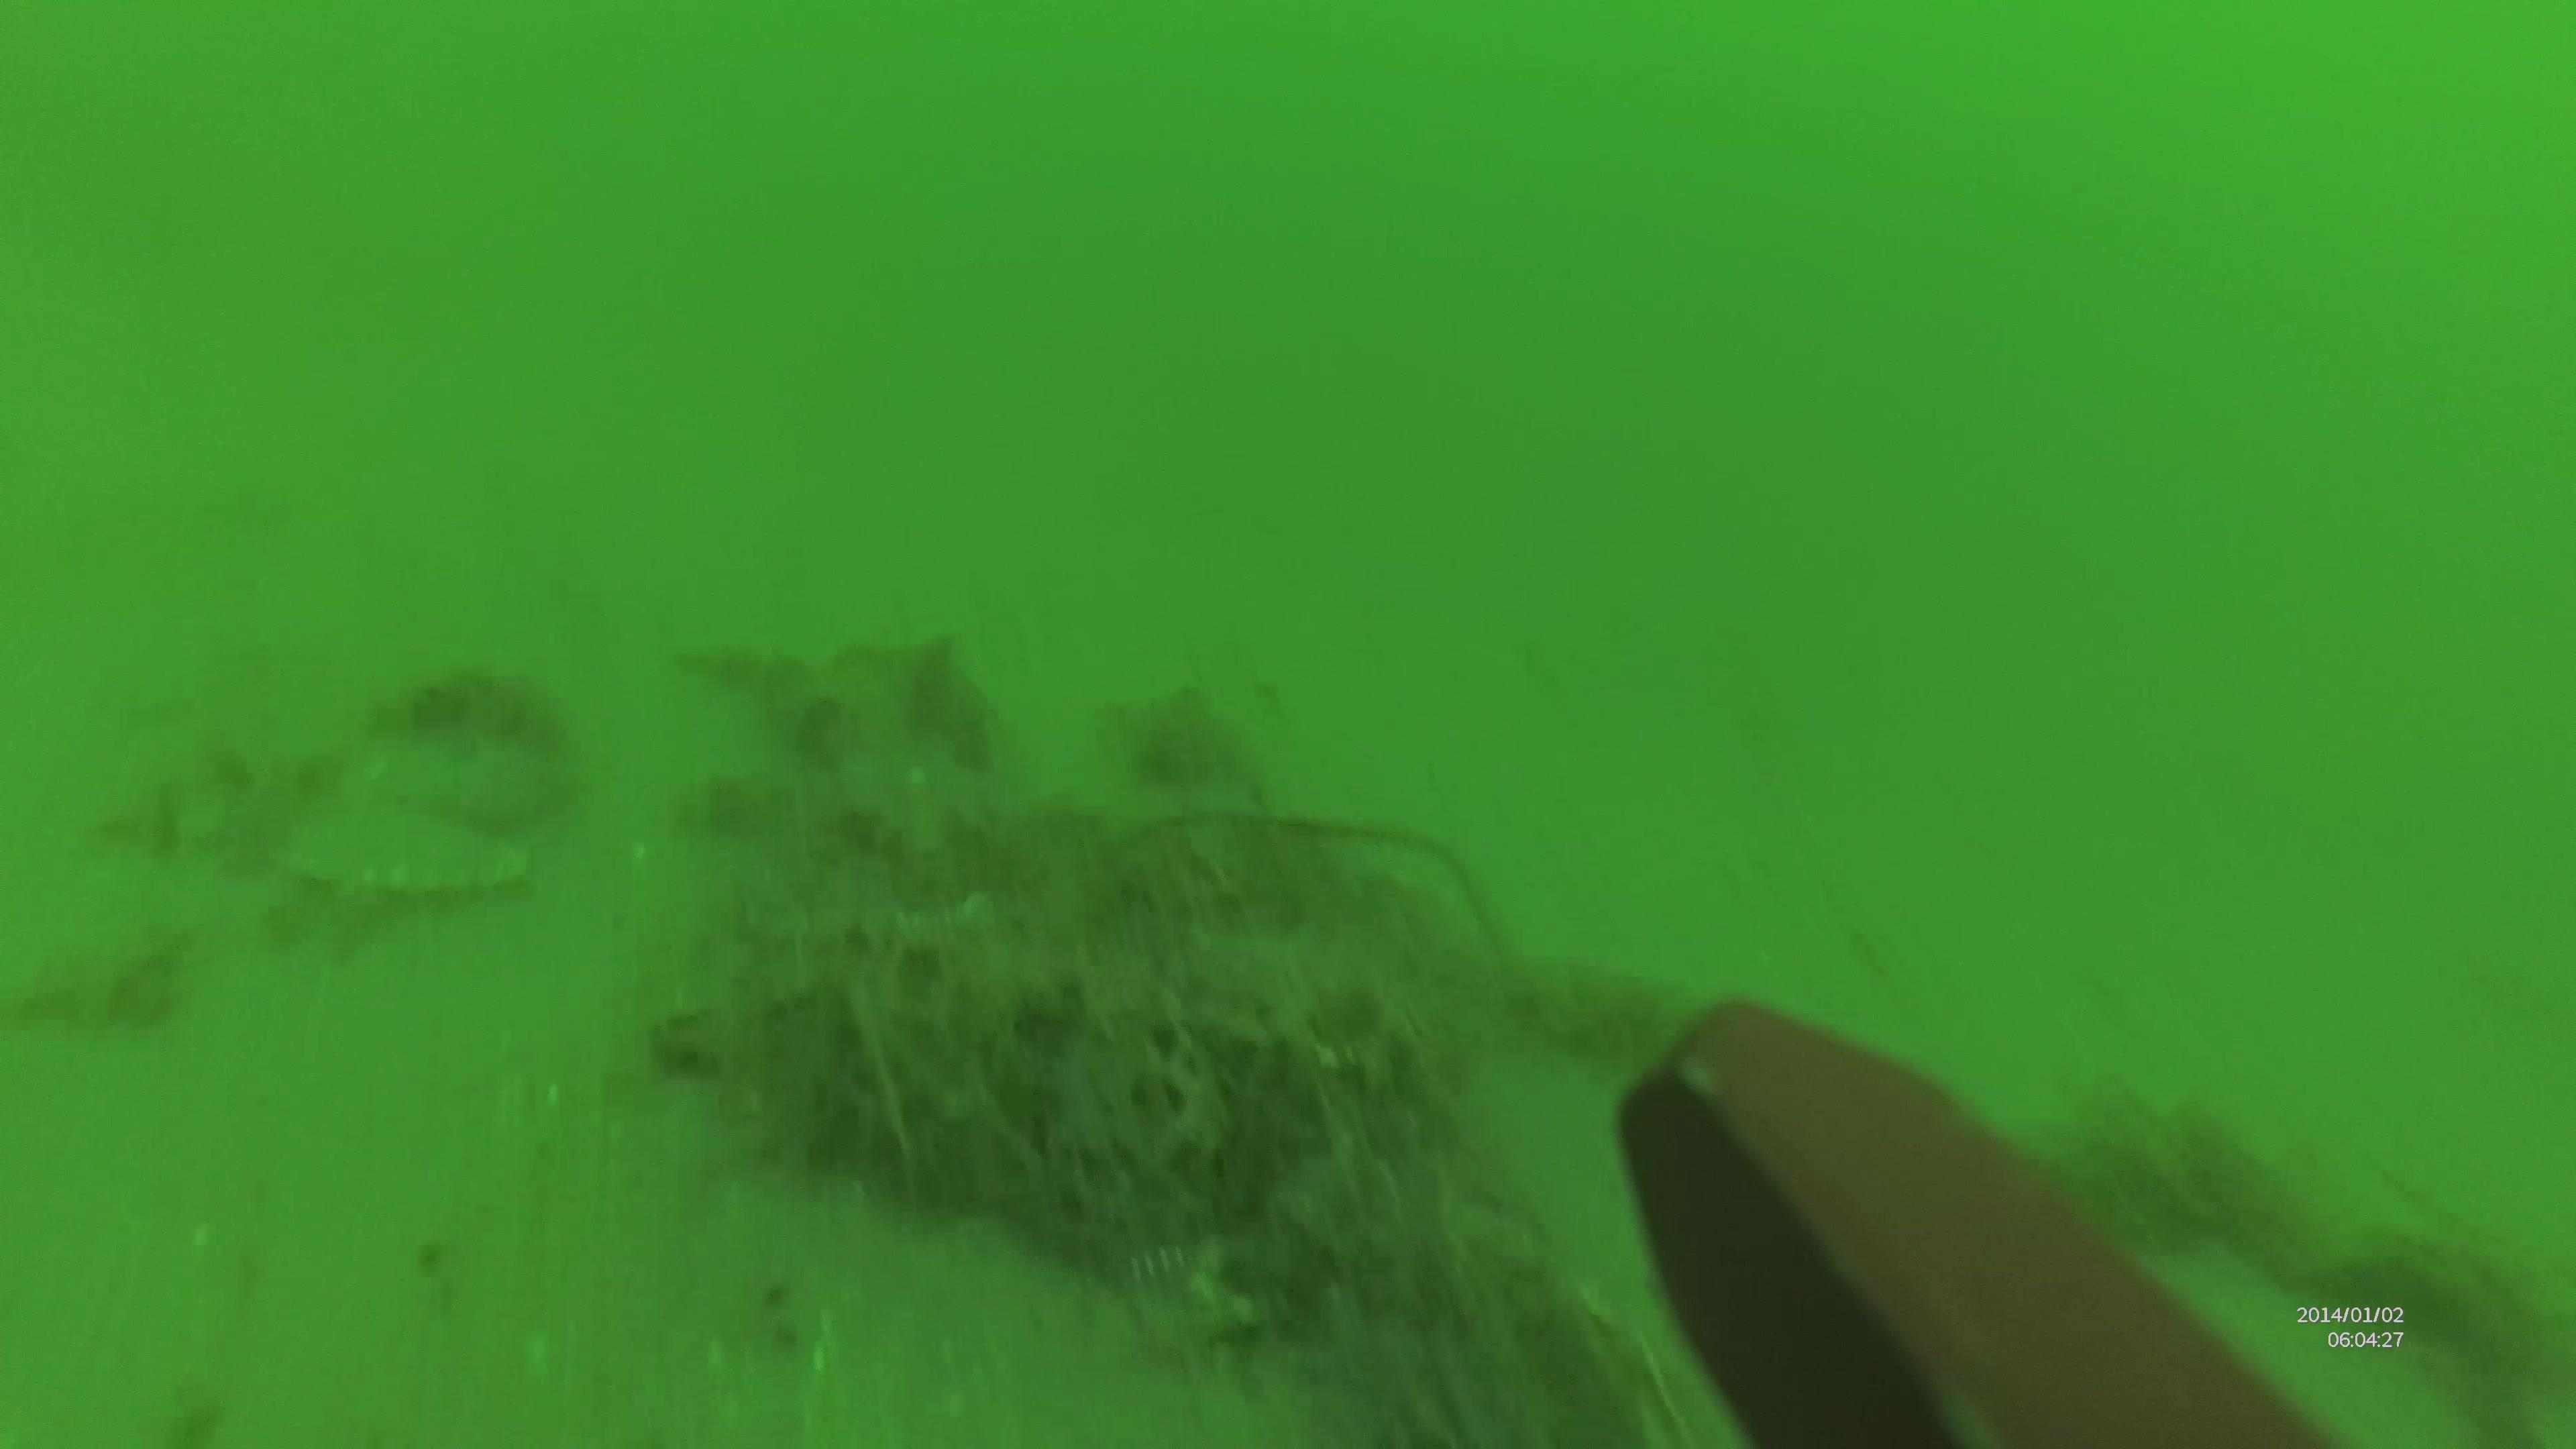scallop: (272, 809, 531, 911)
